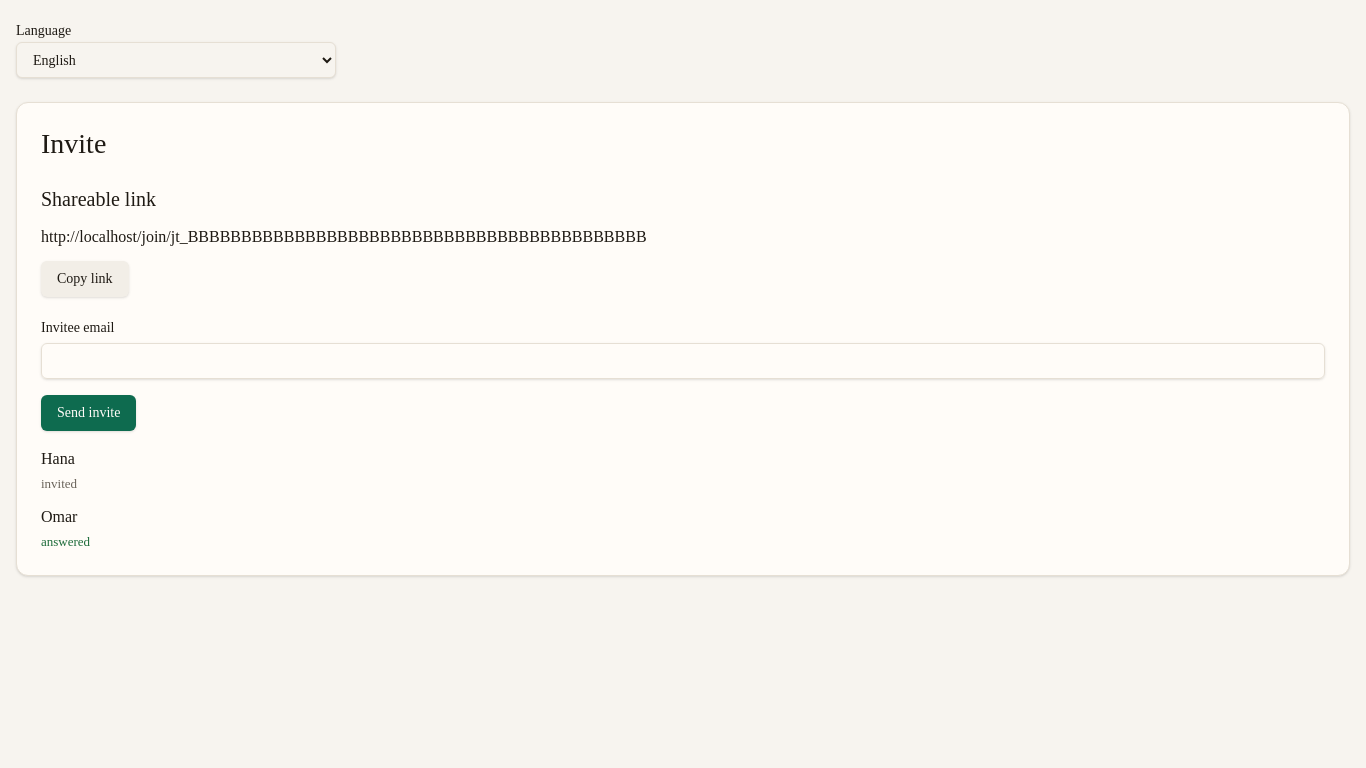
Test: InvitePanel field blocks › T-001-100/AC-1 the invite email label points at its input and the server's email error shows in one p after the input
Step 1. Type "hana@example" into the field labelled "Invitee email" → x=683, y=361, box [41, 343, 1325, 379]
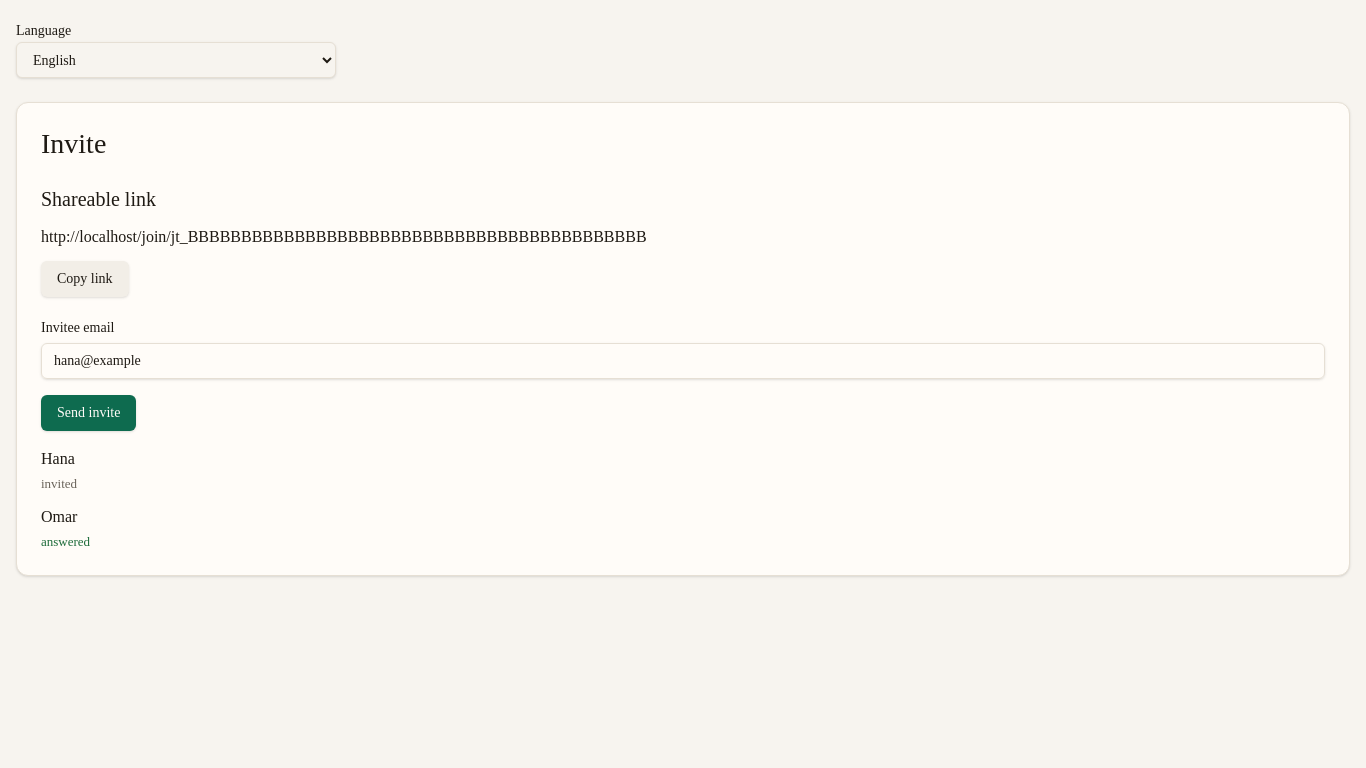
Step 2. Click the button "Send invite" → x=89, y=413, box [41, 395, 136, 431]
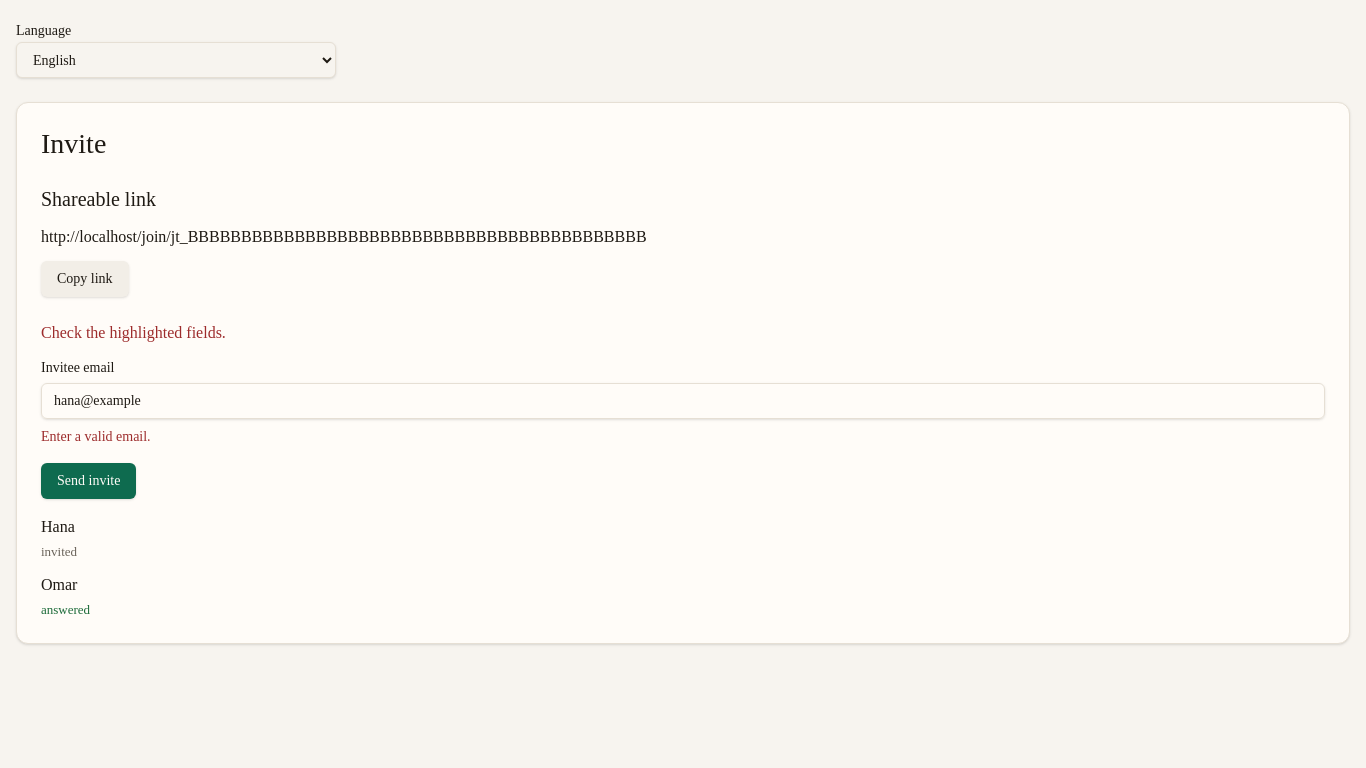
Expected: the number of elements with id "hp-invite-email-error" is 1, [41, 429, 151, 444]
Expected: the text with id "hp-invite-email-error" reads "Enter a valid email.", [41, 429, 151, 444]
